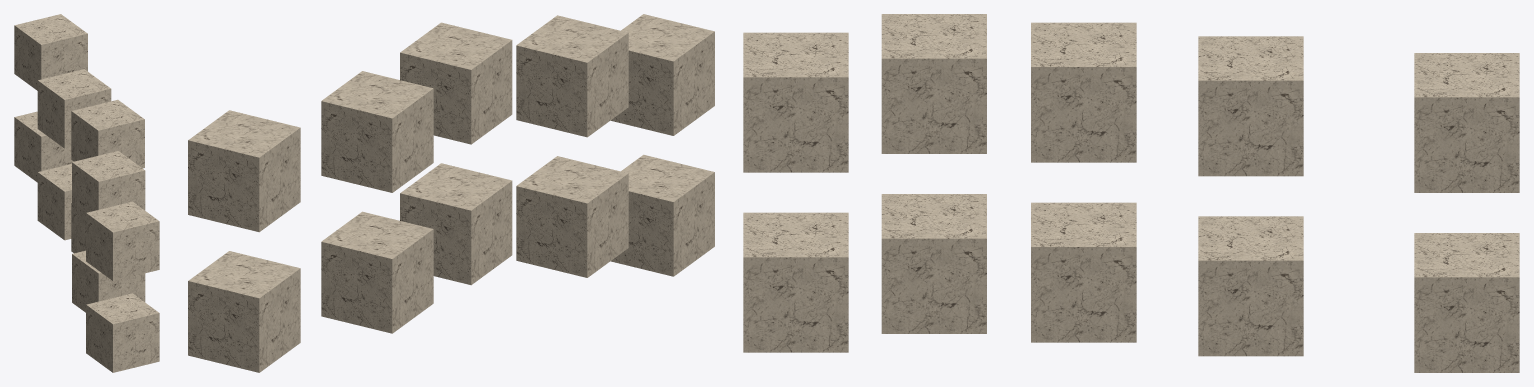
3 renders of one model, left to right at view 1: azimuth 30°, elevation 25°; view 2: azimuth 150°, elevation 25°; view 3: azimuth 270°, elevation 25°, orthographic. The views are drawn at different scales.
Visible parts, largest first — view 1: Cube.006, Cube.003, Cube.008, Cube.005, Cube.009, Cube.007, Cube.001, Cube, Cube.002, Cube.004; view 2: Cube.002, Cube.008, Cube, Cube.001, Cube.009, Cube.007, Cube.005, Cube.004, Cube.006, Cube.003; view 3: Cube.002, Cube.003, Cube.004, Cube.007, Cube.006, Cube.005, Cube, Cube.001, Cube.009, Cube.008.
Boxes of the visible parts, x1=… form: Cube.006: x1=86, y1=201, x2=159, y2=280; Cube.003: x1=86, y1=293, x2=159, y2=372; Cube.008: x1=14, y1=14, x2=87, y2=90; Cube.005: x1=71, y1=99, x2=144, y2=168; Cube.009: x1=72, y1=151, x2=145, y2=220; Cube.007: x1=37, y1=69, x2=111, y2=148; Cube.001: x1=14, y1=111, x2=73, y2=182; Cube: x1=72, y1=250, x2=145, y2=312; Cube.002: x1=37, y1=164, x2=71, y2=240; Cube.004: x1=71, y1=202, x2=85, y2=253; Cube.002: x1=321, y1=211, x2=433, y2=333; Cube.008: x1=188, y1=110, x2=300, y2=232; Cube: x1=516, y1=156, x2=628, y2=277; Cube.001: x1=188, y1=251, x2=300, y2=372; Cube.009: x1=516, y1=15, x2=628, y2=137; Cube.007: x1=321, y1=71, x2=433, y2=192; Cube.005: x1=400, y1=22, x2=512, y2=144; Cube.004: x1=400, y1=163, x2=512, y2=285; Cube.006: x1=611, y1=14, x2=714, y2=135; Cube.003: x1=611, y1=154, x2=714, y2=276; Cube.002: x1=1198, y1=216, x2=1303, y2=356; Cube.003: x1=743, y1=212, x2=848, y2=352; Cube.004: x1=1031, y1=202, x2=1136, y2=342; Cube.007: x1=1198, y1=36, x2=1303, y2=176; Cube.006: x1=743, y1=32, x2=848, y2=172; Cube.005: x1=1031, y1=22, x2=1136, y2=162; Cube: x1=881, y1=194, x2=986, y2=333; Cube.001: x1=1414, y1=233, x2=1519, y2=372; Cube.009: x1=881, y1=14, x2=986, y2=153; Cube.008: x1=1414, y1=53, x2=1519, y2=192.
Size of the model in its own units: 6.27 by 7.34 by 14.73.
10 materials, 10 textured.
